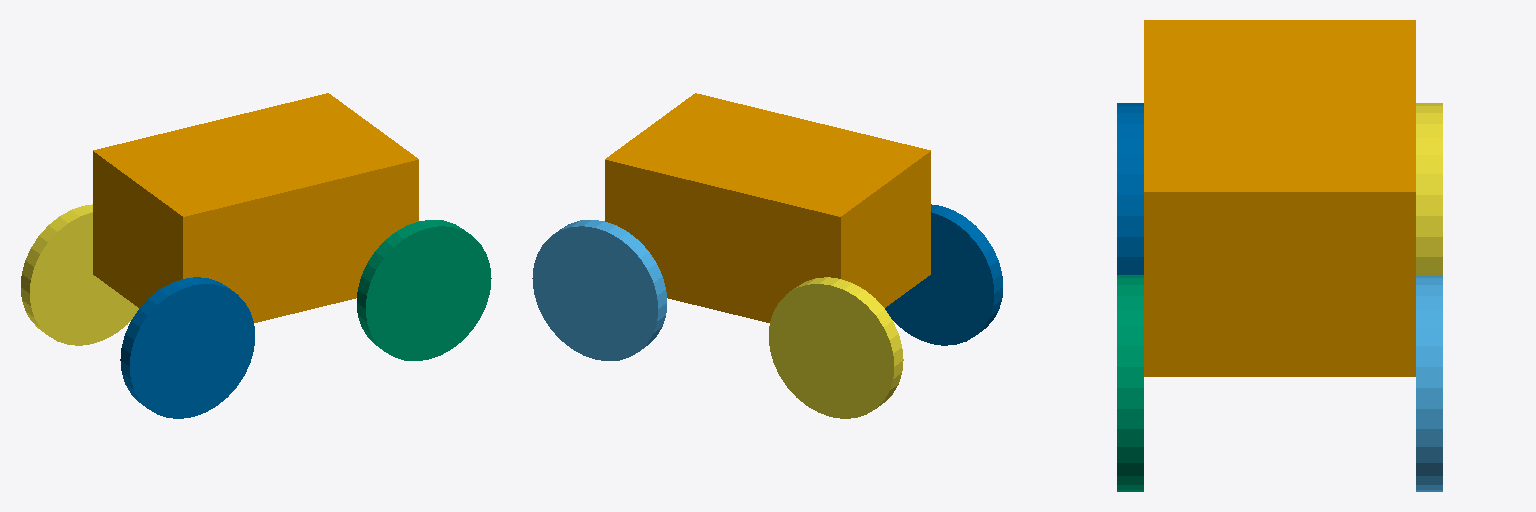
URDF robot description (4w_diff_drive):
<?xml version="1.0"?>
<robot name="4w_diff_drive">
    <link name="base_link">    
        <visual>
            <origin xyz="0.0 0.0 0.12" rpy="0.0 0.0 0.0"/>
            <geometry>
                <box size="0.3 0.2 0.15"/>
            </geometry>
        </visual>
    </link>
    <link name="front_left_wheel">
        <visual>
            <origin xyz="0 0 0" rpy="1.57 0.0 0.0"/>
            <geometry>
                <cylinder radius="0.08" length="0.02"/>
            </geometry>
        </visual>        
    </link>
    <link name="front_right_wheel">
        <visual>
            <origin xyz="0 0 0" rpy="1.57 0.0 0.0"/>
            <geometry>
                <cylinder radius="0.08" length="0.02"/>
            </geometry>
        </visual>        
    </link>
    <link name="rear_left_wheel">
        <visual>
            <origin xyz="0 0 0" rpy="1.57 0.0 0.0"/>
            <geometry>
                <cylinder radius="0.08" length="0.02"/>
            </geometry>
        </visual>        
    </link>
    <link name="rear_right_wheel">
        <visual>
            <origin xyz="0 0 0" rpy="1.57 0.0 0.0"/>
            <geometry>
                <cylinder radius="0.08" length="0.02"/>
            </geometry>
        </visual>        
    </link>

    <joint name="front_left_wheel_link" type="continuous">
        <parent link="base_link"/>
        <child link="front_left_wheel"/>
        <axis xyz="0 1 0"/>
        <origin xyz="0.15 0.11 0.04" rpy="0 0 0"/>
    </joint>

    <joint name="front_right_wheel_link" type="continuous">
        <parent link="base_link"/>
        <child link="front_right_wheel"/>
        <axis xyz="0 1 0"/>
        <origin xyz="0.15 -0.11 0.04" rpy="0 0 0"/>
    </joint>

    <joint name="rear_left_wheel_link" type="continuous">
        <parent link="base_link"/>
        <child link="rear_left_wheel"/>
        <axis xyz="0 1 0"/>
        <origin xyz="-0.15 0.11 0.04" rpy="0 0 0"/>
    </joint>

    <joint name="rear_right_wheel_link" type="continuous">
        <parent link="base_link"/>
        <child link="rear_right_wheel"/>
        <axis xyz="0 1 0"/>
        <origin xyz="-0.15 -0.11 0.04" rpy="0 0 0"/>
    </joint>
    
</robot>

--- What the picture shows (computed from the rendered views, not written in the file) ---
The picture shows the robot from 3 angles, left to right: view 1: azimuth 30°, elevation 25°; view 2: azimuth 150°, elevation 25°; view 3: azimuth 270°, elevation 25°; orthographic projection.
Model 4w_diff_drive with 5 links and 4 joints (4 continuous), rooted at base_link, posed all joints at 0.
Links seen in each view (by area): view 1: base_link, rear_right_wheel, front_right_wheel, rear_left_wheel; view 2: base_link, rear_left_wheel, front_left_wheel, rear_right_wheel; view 3: base_link, front_left_wheel, front_right_wheel, rear_left_wheel, rear_right_wheel.
Boxes of the visible links, <box> form: base_link: <box>93,93,418,322</box>; rear_right_wheel: <box>120,277,254,418</box>; front_right_wheel: <box>357,220,491,360</box>; rear_left_wheel: <box>21,204,138,345</box>; base_link: <box>605,93,930,322</box>; rear_left_wheel: <box>769,277,903,418</box>; front_left_wheel: <box>532,220,666,360</box>; rear_right_wheel: <box>885,204,1002,345</box>; base_link: <box>1144,20,1415,376</box>; front_left_wheel: <box>1416,275,1442,491</box>; front_right_wheel: <box>1117,275,1143,491</box>; rear_left_wheel: <box>1416,103,1442,274</box>; rear_right_wheel: <box>1117,103,1143,274</box>.
Bounding box of the posed robot: 0.46 × 0.2401 × 0.235 m (x, y, z).
Geometry: primitives only (box / cylinder / sphere), no mesh files.